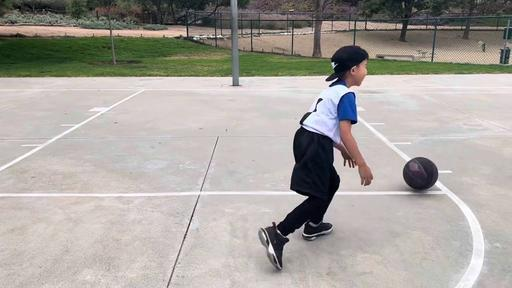ball: (403, 158, 438, 192)
human: (258, 46, 373, 270)
